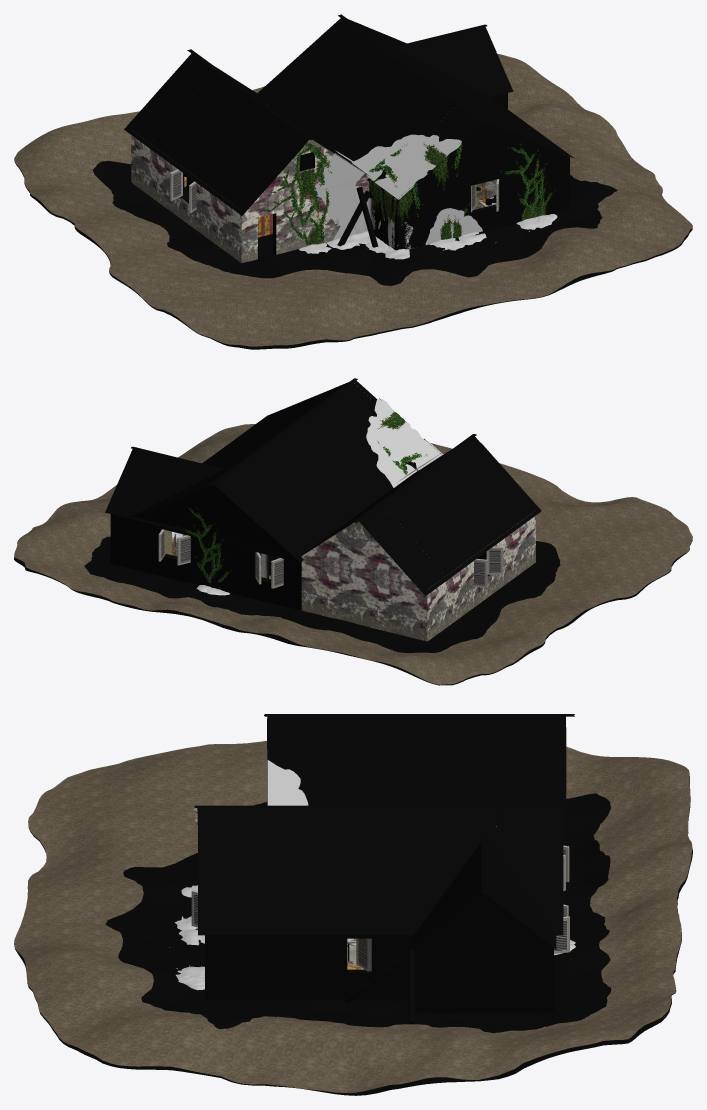
File: AbandondH.fbx
3 views of the same model, one above another, from view 1: azimuth 30°, elevation 25°; view 2: azimuth 150°, elevation 25°; view 3: azimuth 270°, elevation 25° (orthographic). The views are drawn at different scales.
Parts seen in each view (by area): view 1: terra3, polySurface3, terra2, pCube58, telhas578, pCube62, telhas560, telhas561, telhas564, telhas569, telhas562, telhas563 (+27 smaller); view 2: terra3, polySurface3, terra2, pCube59, pCube57, telhas575, telhas560, telhas563, telhas564, telhas562, telhas566, telhas565 (+26 smaller); view 3: terra3, terra2, polySurface3, pCube60, telhas569, telhas568, telhas600, telhas599, telhas540, telhas547, telhas595, telhas539 (+31 smaller).
Boxes of the visible parts, bbox=[...] form: terra3: bbox=[14, 54, 692, 346]; polySurface3: bbox=[131, 93, 569, 263]; terra2: bbox=[14, 161, 692, 349]; pCube58: bbox=[411, 123, 568, 195]; telhas578: bbox=[455, 52, 513, 96]; pCube62: bbox=[249, 140, 368, 208]; telhas560: bbox=[124, 95, 177, 146]; telhas561: bbox=[147, 113, 201, 163]; telhas564: bbox=[218, 165, 272, 215]; telhas569: bbox=[249, 130, 303, 181]; telhas562: bbox=[171, 130, 224, 181]; telhas563: bbox=[195, 147, 248, 198]; terra3: bbox=[14, 424, 692, 684]; polySurface3: bbox=[110, 510, 535, 641]; terra2: bbox=[14, 536, 692, 685]; pCube59: bbox=[133, 485, 293, 556]; pCube57: bbox=[301, 521, 416, 586]; telhas575: bbox=[105, 473, 161, 522]; telhas560: bbox=[395, 545, 448, 595]; telhas563: bbox=[465, 494, 518, 544]; telhas564: bbox=[489, 477, 541, 527]; telhas562: bbox=[442, 511, 494, 561]; telhas566: bbox=[389, 495, 441, 544]; telhas565: bbox=[366, 512, 418, 562]; terra3: bbox=[14, 741, 692, 1092]; terra2: bbox=[15, 776, 692, 1095]; polySurface3: bbox=[205, 935, 553, 1012]; pCube60: bbox=[418, 894, 550, 946]; telhas569: bbox=[506, 727, 566, 781]; telhas568: bbox=[446, 728, 506, 781]; telhas600: bbox=[386, 728, 446, 781]; telhas599: bbox=[327, 728, 386, 781]; telhas540: bbox=[257, 886, 317, 935]; telhas547: bbox=[257, 837, 317, 886]; telhas595: bbox=[317, 837, 377, 886]; telhas539: bbox=[198, 886, 257, 935].
Bounding box in the file's own units: 2663 × 611 × 2297.
